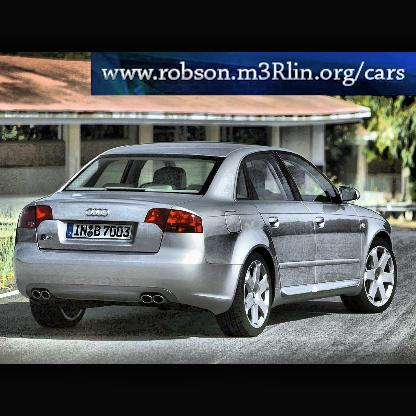Audi S4 Sedan 2007: (14, 144, 398, 337)
